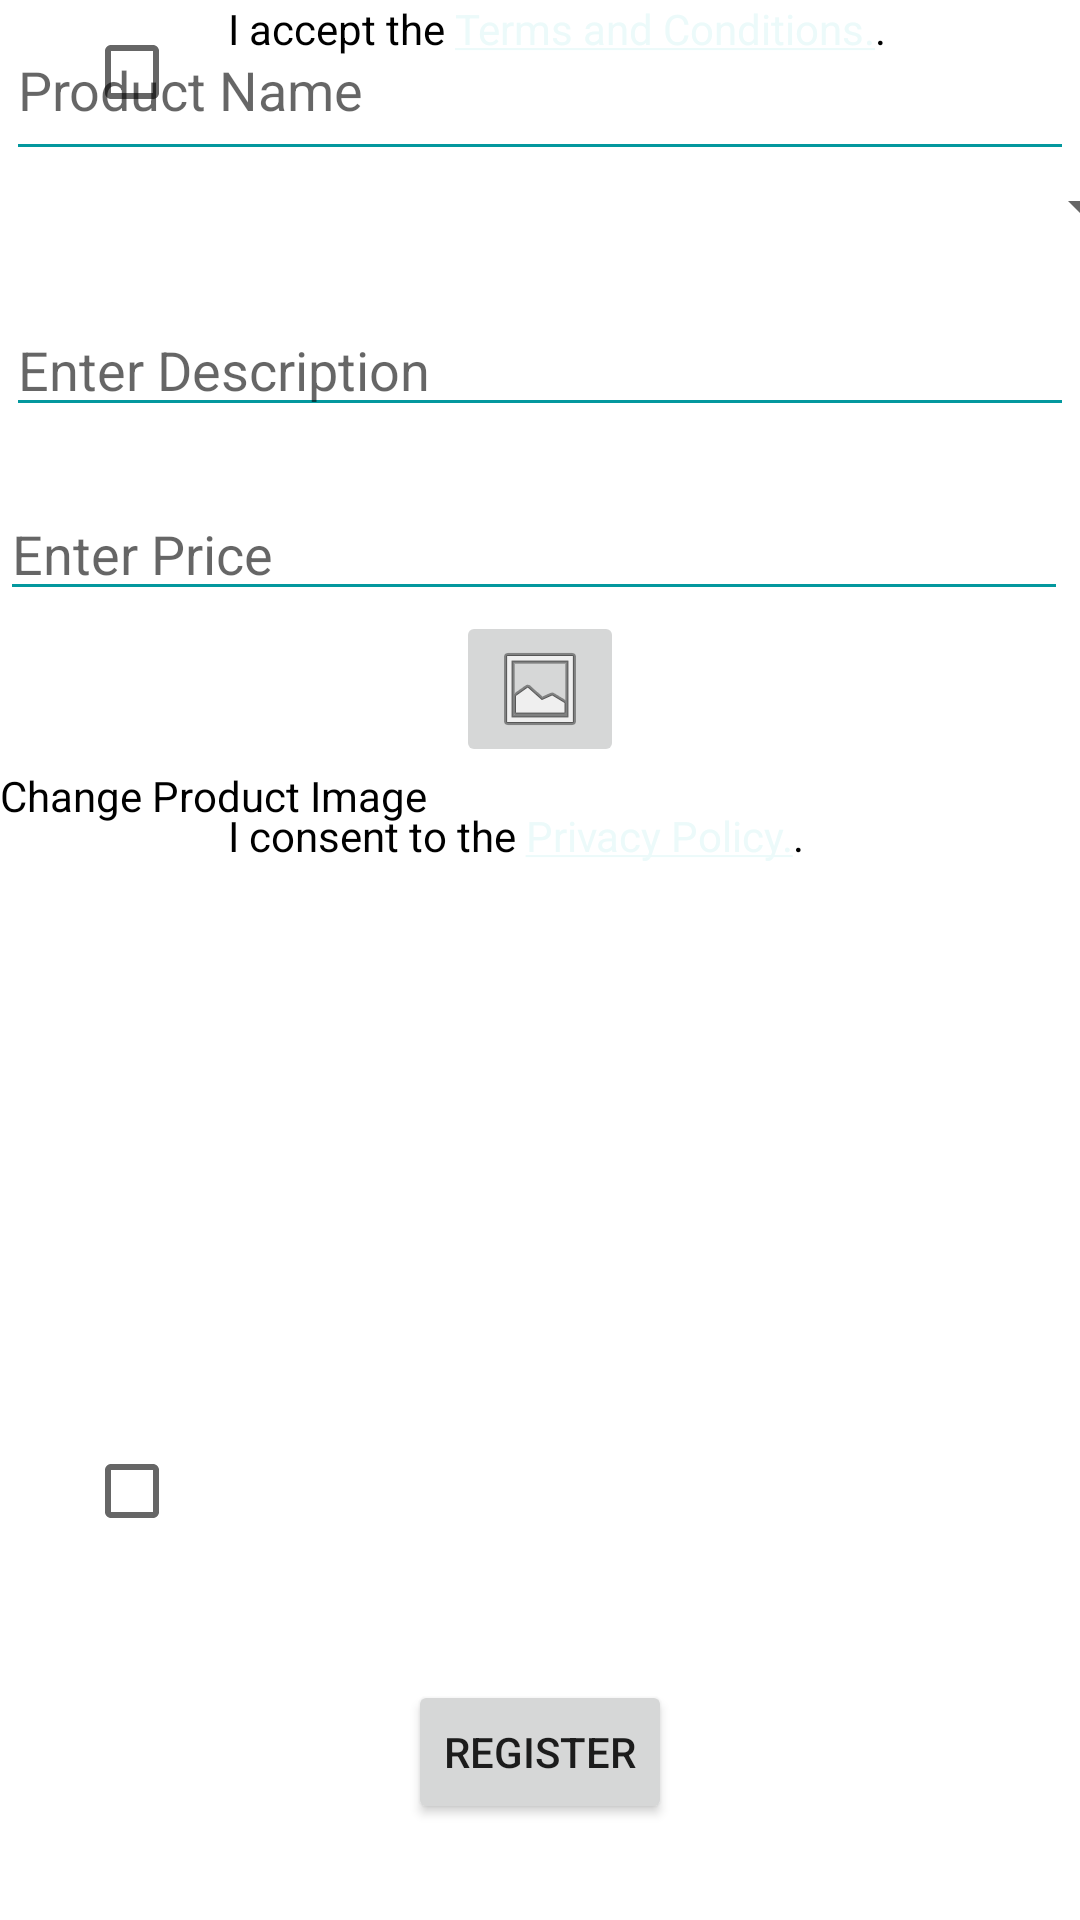

Icon click points for this 1080px x 1920px phone screenshot, format point (x, y):
gallery: point (540, 689)
